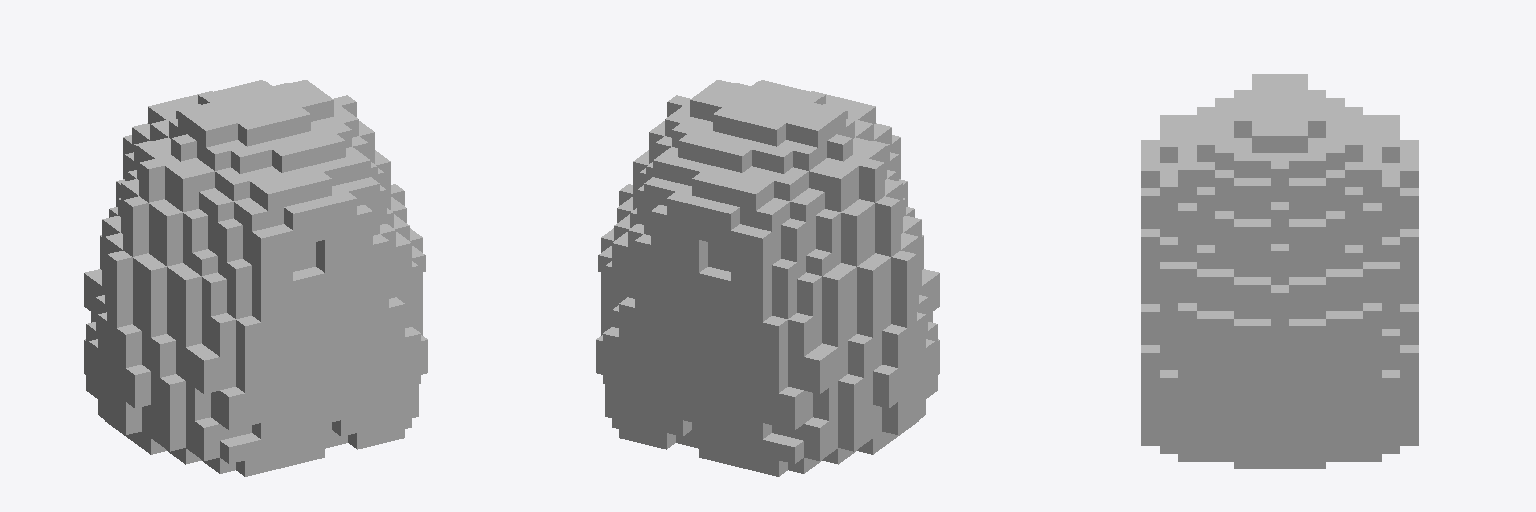
Rendered from rock2.obj.
3 views of the same model, side by side, from view 1: azimuth 30°, elevation 25°; view 2: azimuth 150°, elevation 25°; view 3: azimuth 270°, elevation 25° (orthographic).
Parts seen in each view (by area): view 1: rock2; view 2: rock2; view 3: rock2.
Part boxes in pixels (x1,y1,x2,y2): rock2: (84,80,427,476); rock2: (596,80,939,476); rock2: (1141,74,1418,468).
Size of the model in its own units: 18 by 18 by 15.